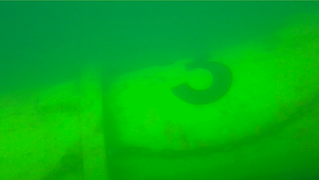3: (160, 52, 233, 105)
pipe: (1, 11, 318, 180)
